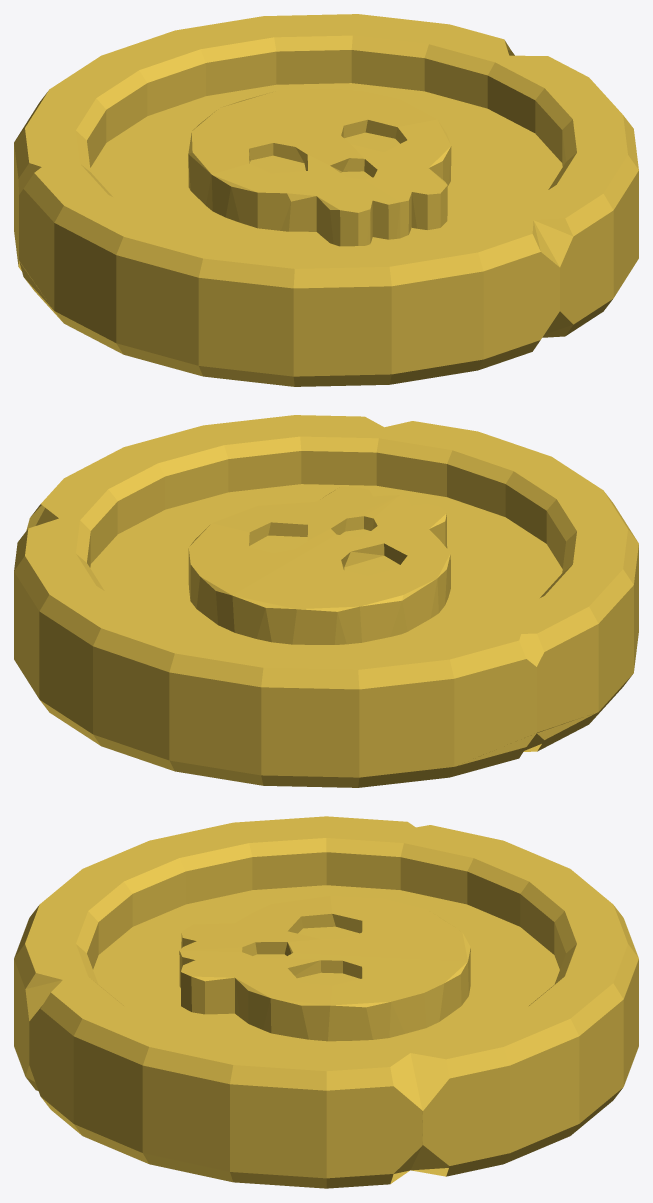
The model's file is CoinBothSides.fbx.
The picture shows the model from 3 angles, top to bottom: view 1: azimuth 30°, elevation 25°; view 2: azimuth 150°, elevation 25°; view 3: azimuth 270°, elevation 25°; orthographic projection.
Visible parts, largest first — view 1: skull coin reference.005; view 2: skull coin reference.005; view 3: skull coin reference.005.
Part boxes in pixels (bbox=[...]): skull coin reference.005: bbox=[14, 14, 638, 386]; skull coin reference.005: bbox=[14, 415, 638, 787]; skull coin reference.005: bbox=[14, 816, 638, 1188].
Bounding box in the file's own units: 157 × 32.58 × 157.
